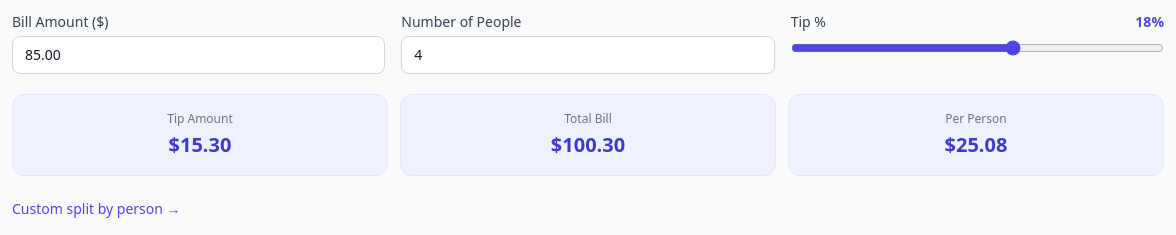
TipSplitter › tip percentage slider updates tip amount in real-time
Replace the text in the number field below "Bill Amount (" with "200" at point(199, 55), box x1=12 y1=36 x2=385 y2=74
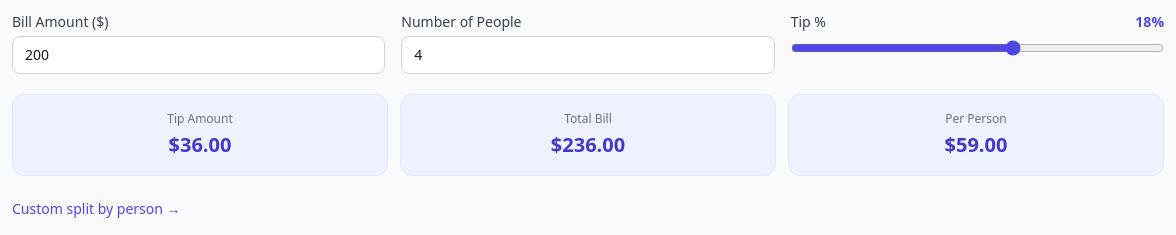
Set the slider to "15" at point(977, 48), box x1=791 y1=40 x2=1164 y2=56
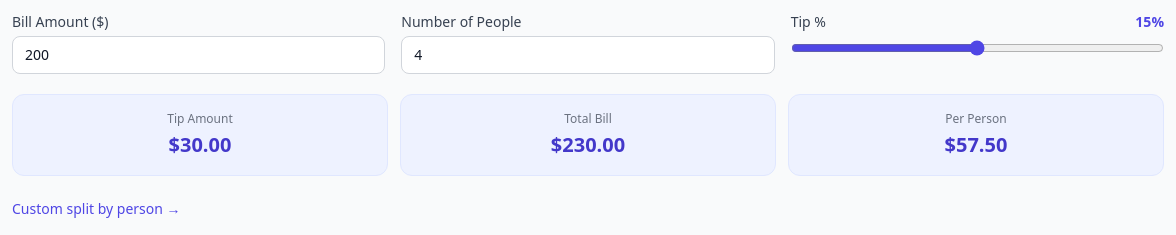
Result: the text "$30.00" is shown at x1=168 y1=131 x2=231 y2=158
